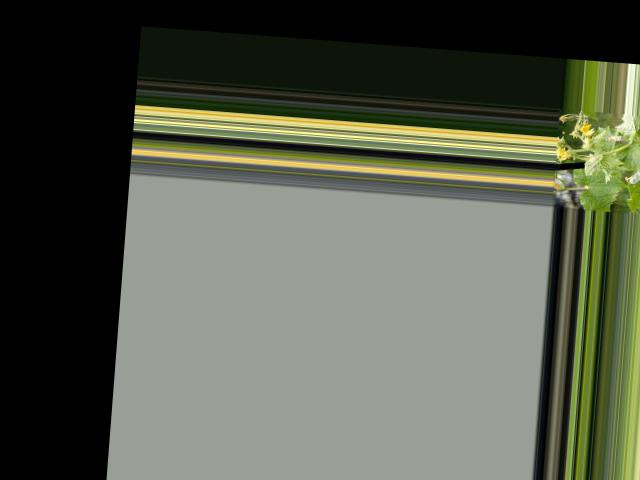cucumber: (623, 143, 640, 186)
